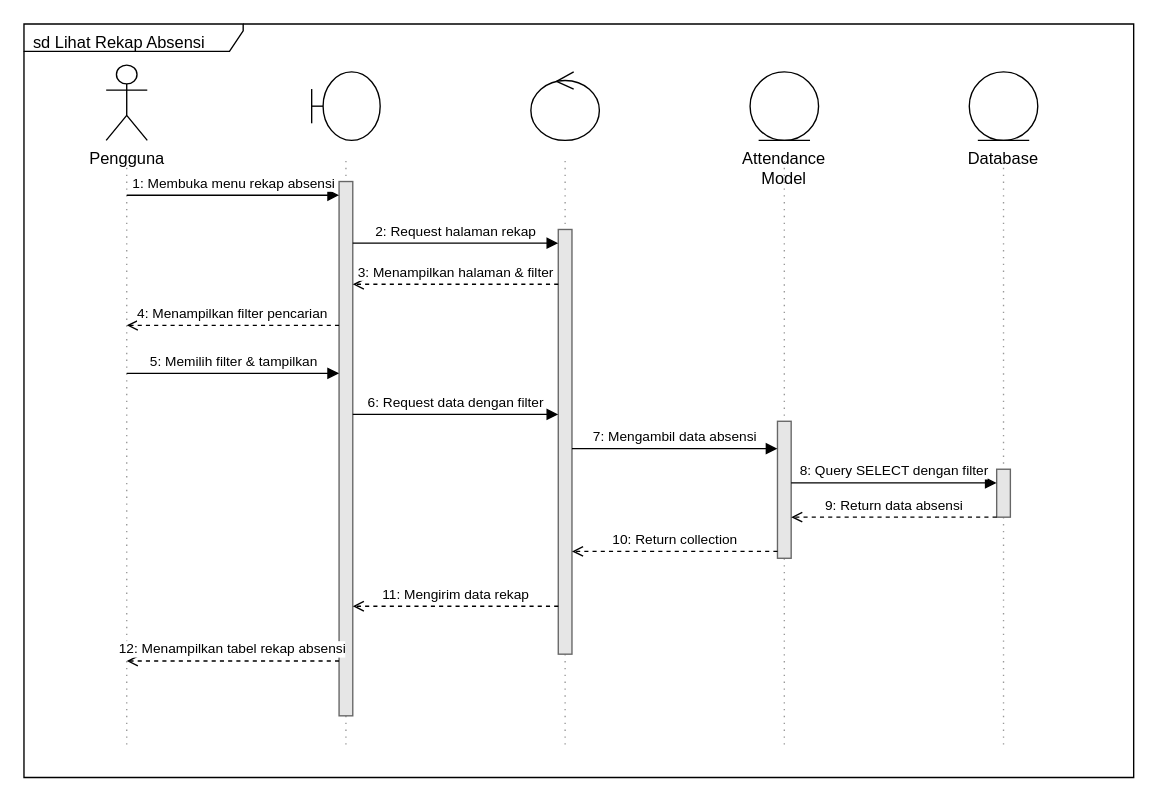
Some shapes in this 1158 by 801 pixel diagram are drawn without their labels. Here are the shapes that lost their labels. From the top down, the box of each, then its label:
(310, 71, 380, 140): Halaman Rekap
(530, 71, 599, 140): AttendanceController
